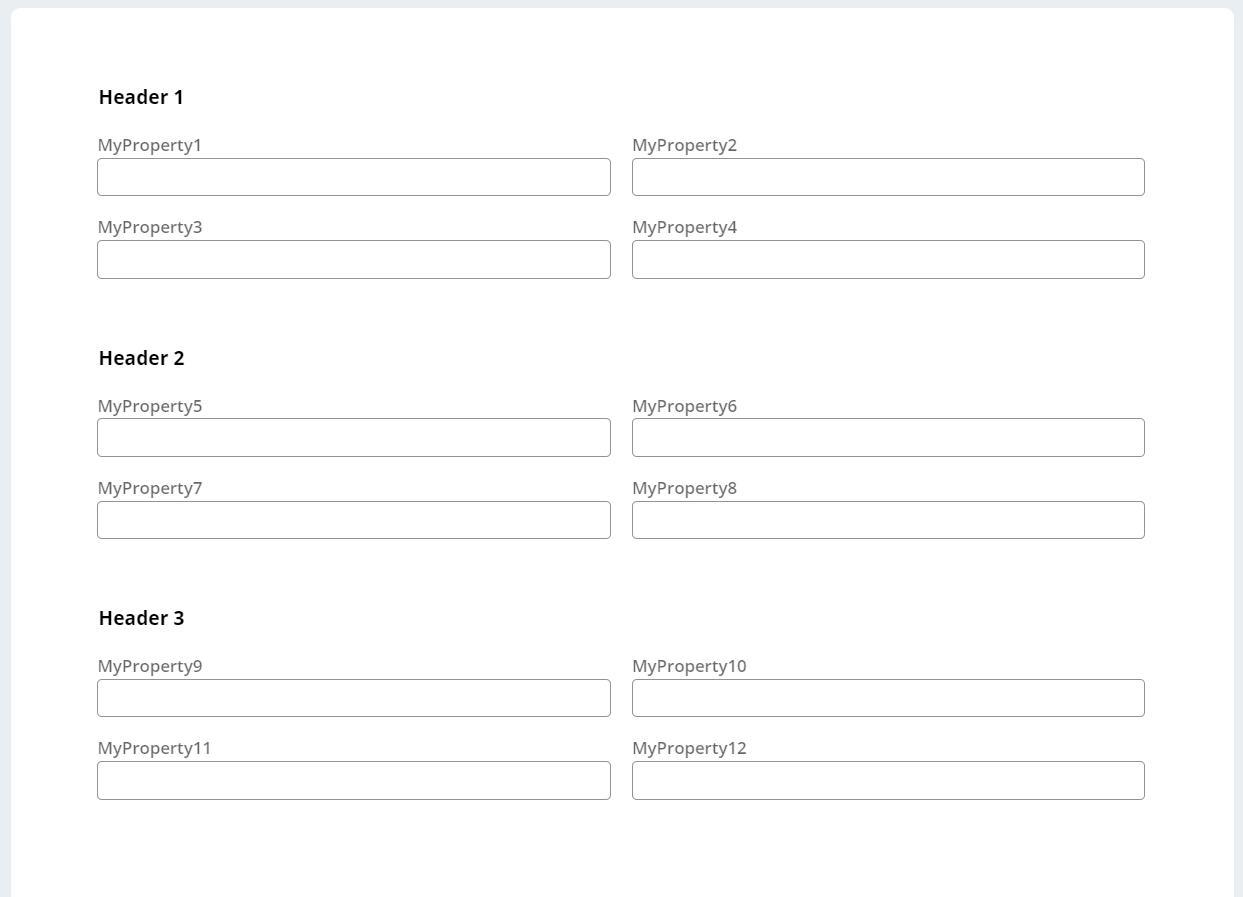input: (99, 418, 613, 459), (632, 419, 1146, 460), (98, 157, 612, 197), (632, 681, 1148, 720), (95, 500, 613, 538), (95, 241, 612, 279), (97, 761, 612, 799), (632, 161, 1146, 199), (633, 242, 1145, 280), (634, 502, 1145, 540), (98, 681, 612, 718), (632, 764, 1147, 799)
label: (95, 602, 197, 637), (93, 84, 197, 118), (94, 341, 192, 375), (94, 735, 216, 762), (627, 736, 753, 762), (94, 132, 216, 158), (629, 657, 753, 682), (637, 131, 743, 160), (629, 215, 744, 241), (629, 394, 743, 419), (98, 475, 208, 500), (97, 217, 209, 240), (97, 396, 208, 419), (95, 657, 209, 678), (630, 479, 742, 499)
